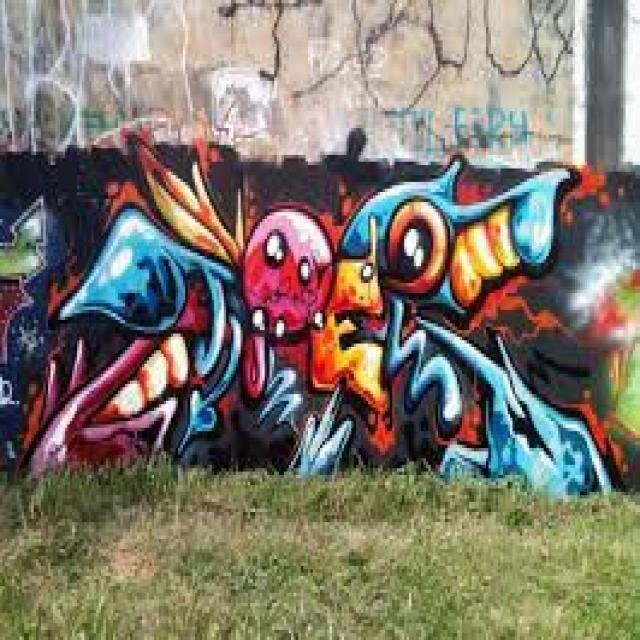-: (24, 136, 614, 497), (0, 196, 39, 398), (385, 101, 527, 147)
